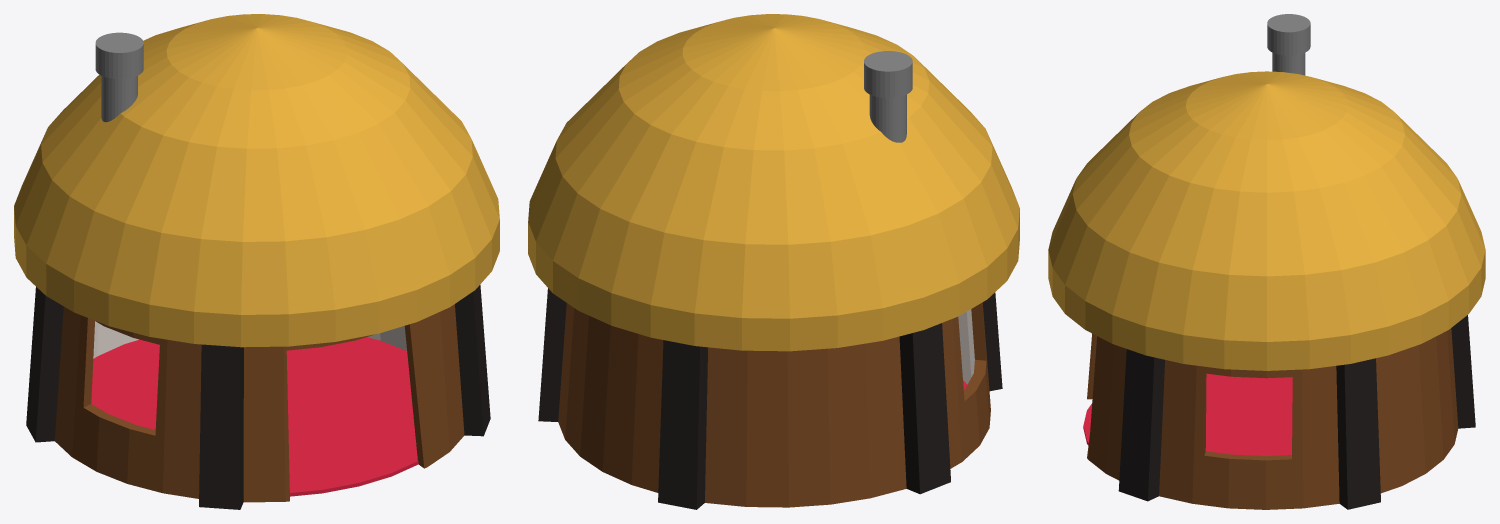
Rendered from hut.glb.
The picture shows the model from 3 angles, left to right: view 1: azimuth 30°, elevation 25°; view 2: azimuth 150°, elevation 25°; view 3: azimuth 270°, elevation 25°; orthographic projection. The views are drawn at different scales.
Parts seen in each view (by area): view 1: Hut; view 2: Hut; view 3: Hut.
Part boxes in pixels (box(x1,y1,x2,y2)): Hut: box(14, 14, 499, 509); Hut: box(528, 14, 1019, 509); Hut: box(1048, 14, 1485, 509).
Bounding box in the file's own units: 9.95 × 8.8 × 9.95.
